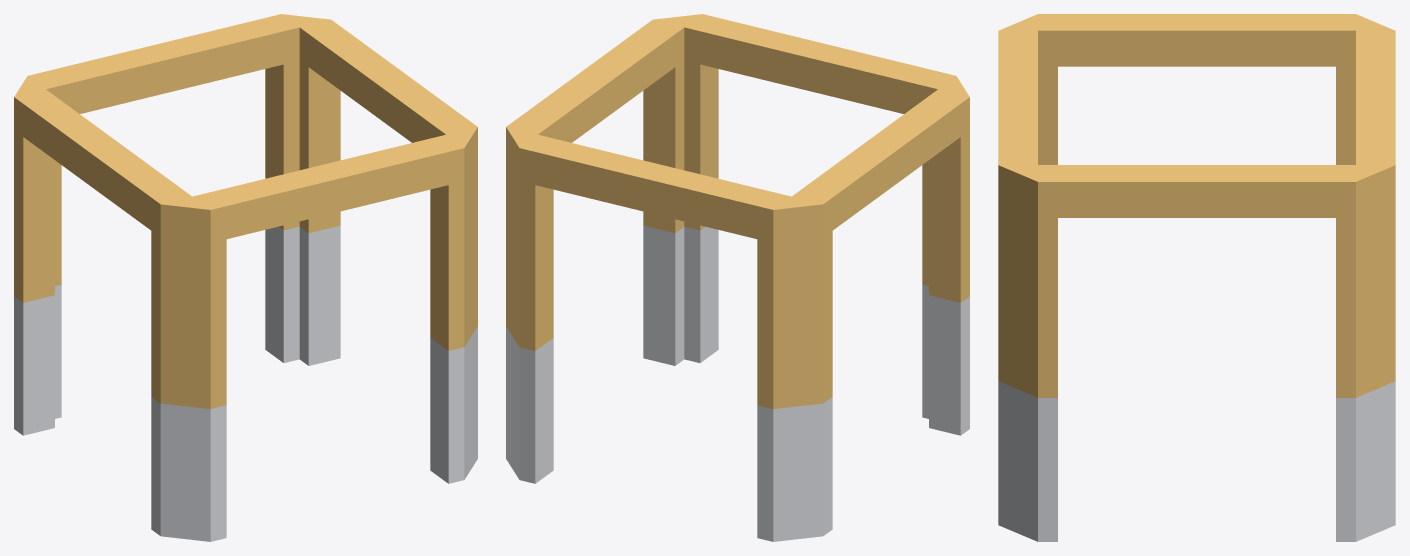
File: structure.glb
3 renders of one model, left to right at view 1: azimuth 30°, elevation 25°; view 2: azimuth 150°, elevation 25°; view 3: azimuth 270°, elevation 25°, orthographic. The views are drawn at different scales.
Parts seen in each view (by area): view 1: structure; view 2: structure; view 3: structure.
Boxes of the visible parts, x1,y1,x2,y2 form: structure: (14,14,477,541); structure: (506,14,969,541); structure: (998,14,1395,541).
Size of the model in its own units: 1 by 1 by 1.
